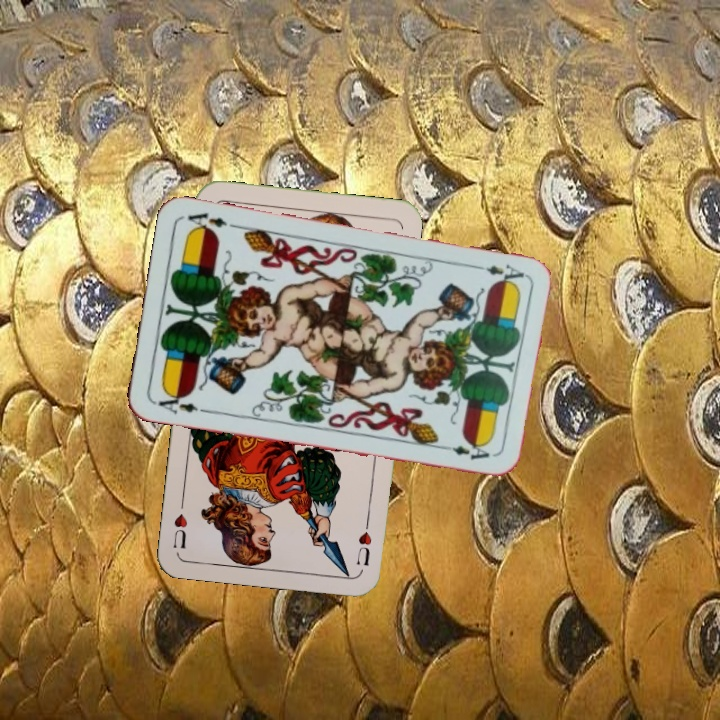EA: (151, 388, 210, 417), (468, 260, 527, 286)
HU: (352, 512, 375, 569)
